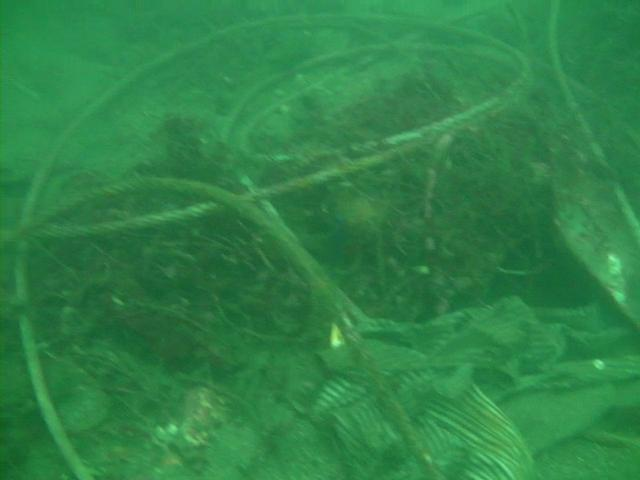rope: (15, 0, 531, 480), (546, 0, 640, 244)
